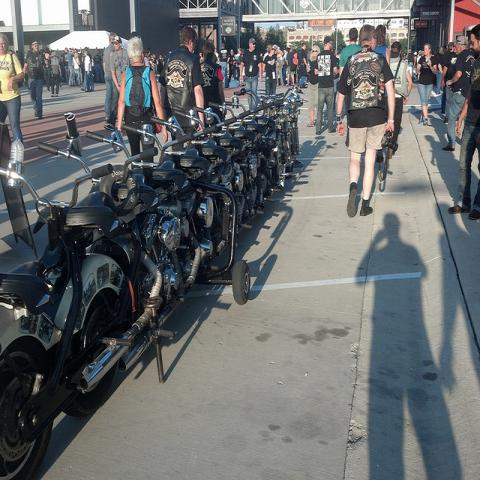motorcycle: (0, 140, 126, 435), (70, 149, 197, 392), (86, 130, 214, 276), (118, 122, 236, 196), (232, 86, 301, 183), (222, 100, 278, 193), (216, 118, 260, 216), (161, 153, 222, 186), (285, 94, 304, 161)
